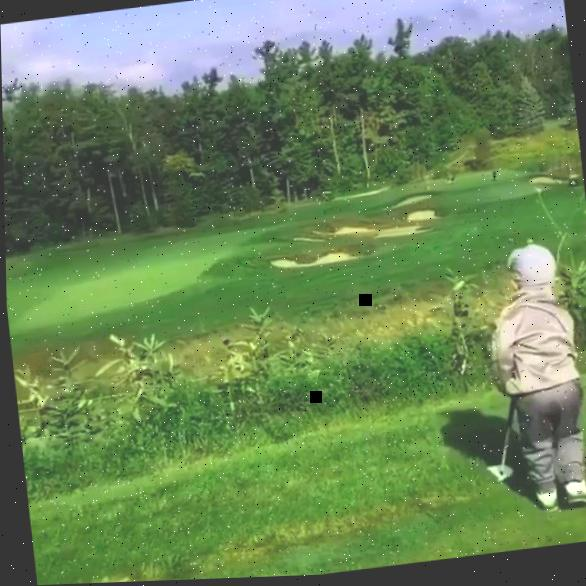ClubHead: (484, 467, 512, 487)
